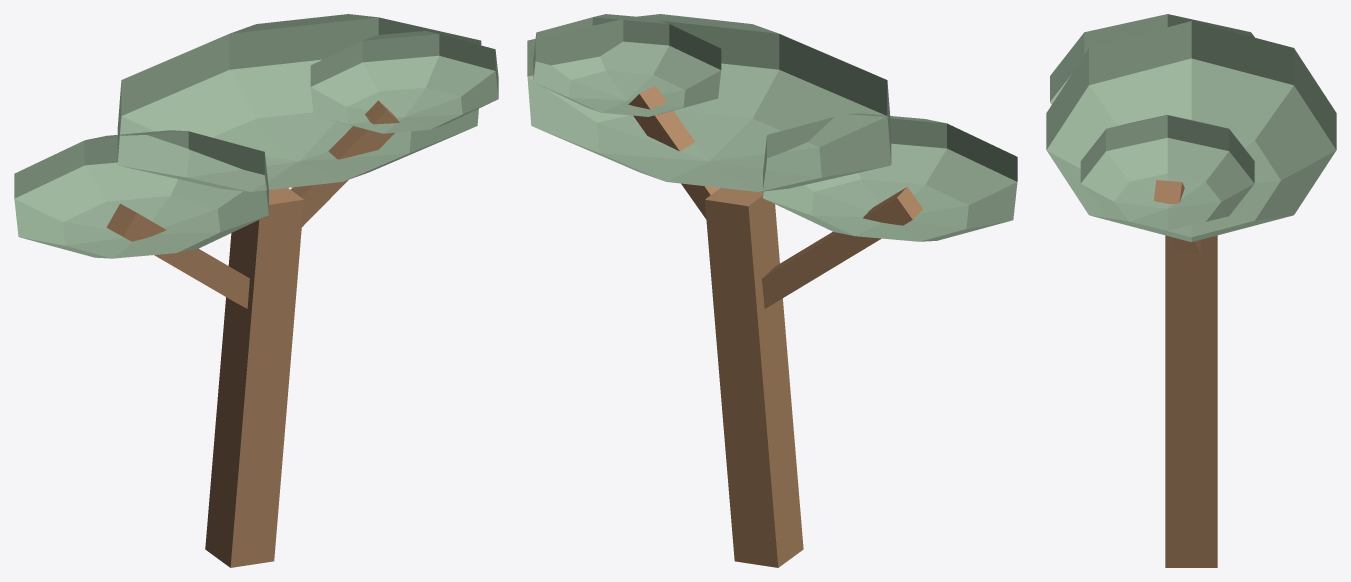
Rendered from tidal-wind-shaped-pine__258.glb.
3 renders of one model, left to right at view 1: azimuth 30°, elevation 25°; view 2: azimuth 150°, elevation 25°; view 3: azimuth 270°, elevation 25°, orthographic. The views are drawn at different scales.
Visible parts, largest first — view 1: tidal-observatory-sea-pine; view 2: tidal-observatory-sea-pine; view 3: tidal-observatory-sea-pine.
Boxes of the visible parts, x1,y1,x2,y2 form: tidal-observatory-sea-pine: (14,14,498,567); tidal-observatory-sea-pine: (527,14,1017,567); tidal-observatory-sea-pine: (1046,14,1336,567).
Size of the model in its own units: 2.39 by 2.39 by 1.22.
